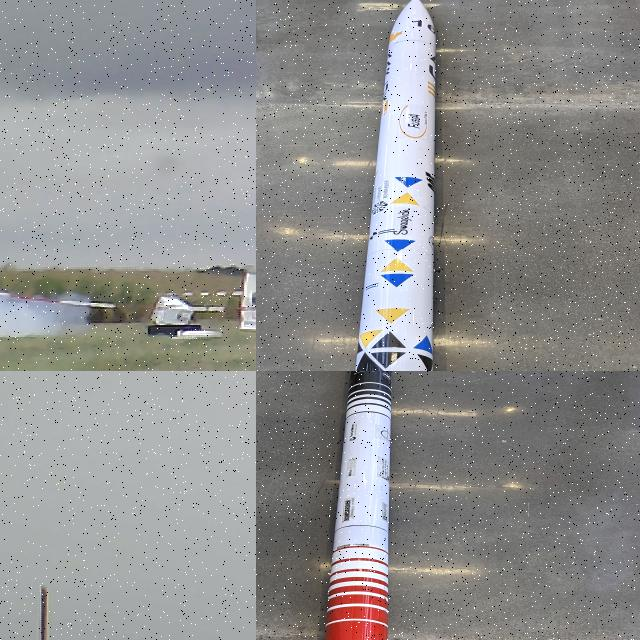Rocket: (355, 0, 436, 371), (324, 371, 392, 640), (34, 584, 50, 640)
